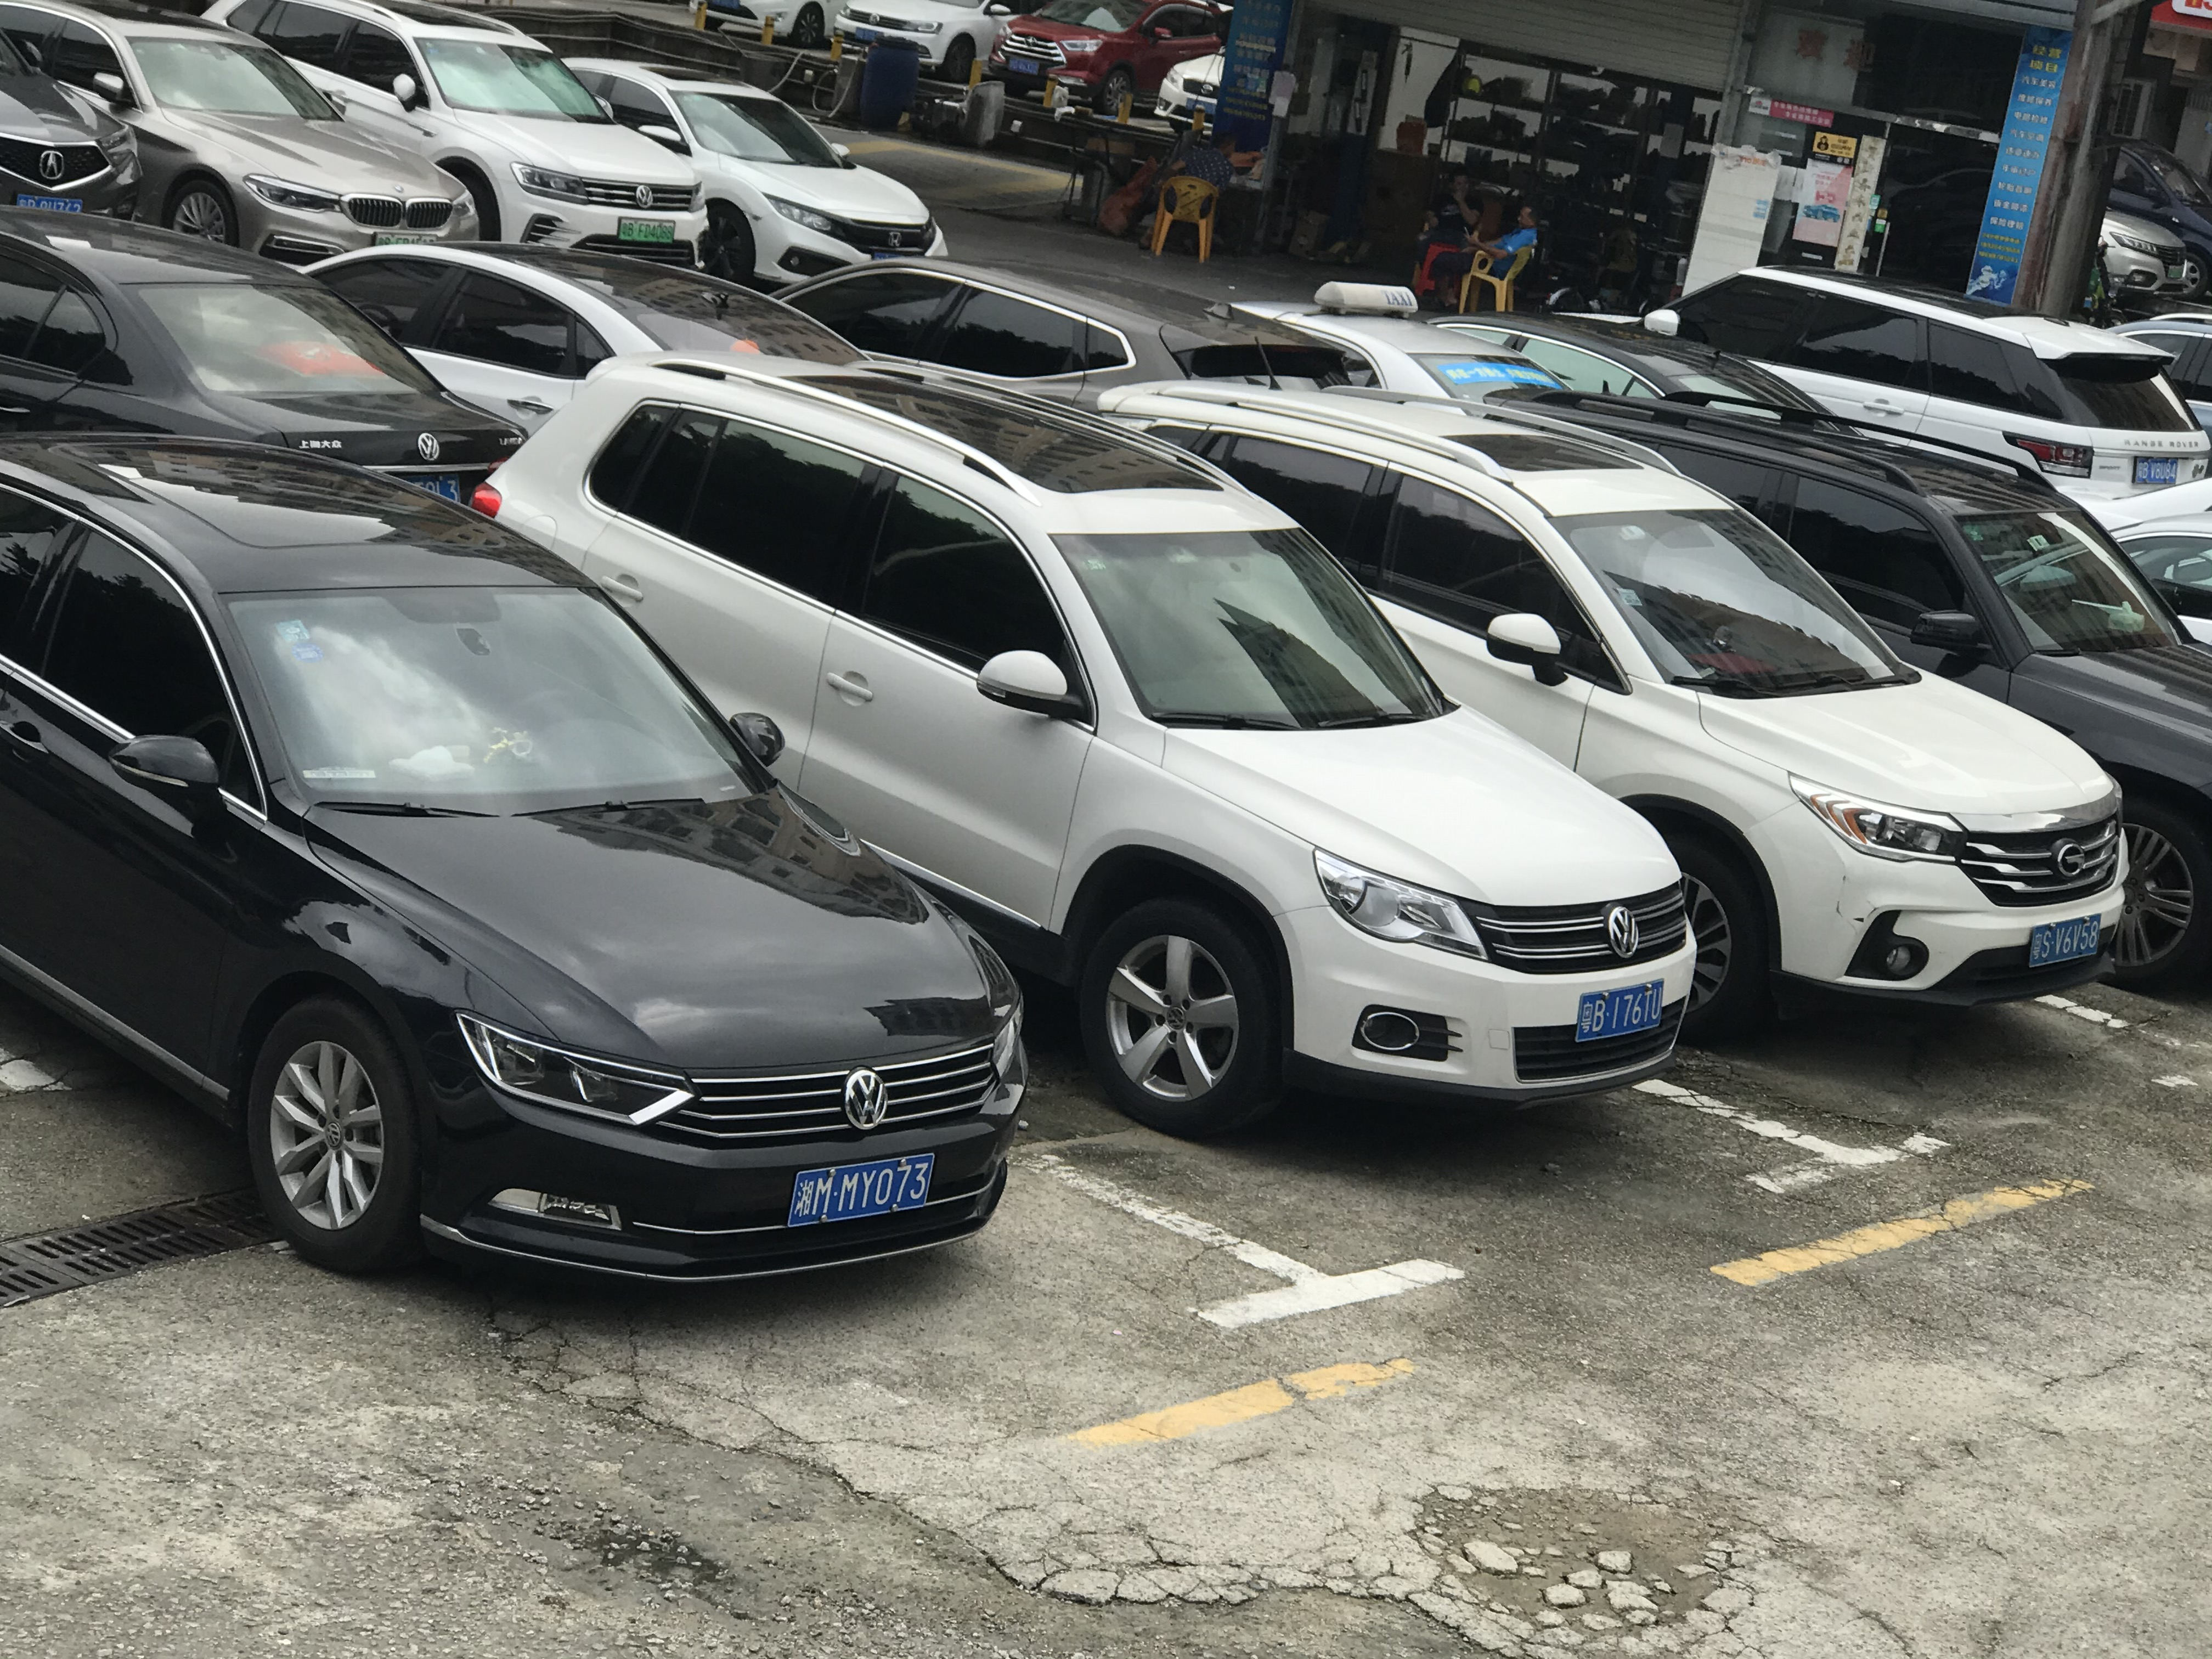bluePlate: (773, 1152, 932, 1220), (1568, 978, 1665, 1042), (2024, 911, 2106, 969)
